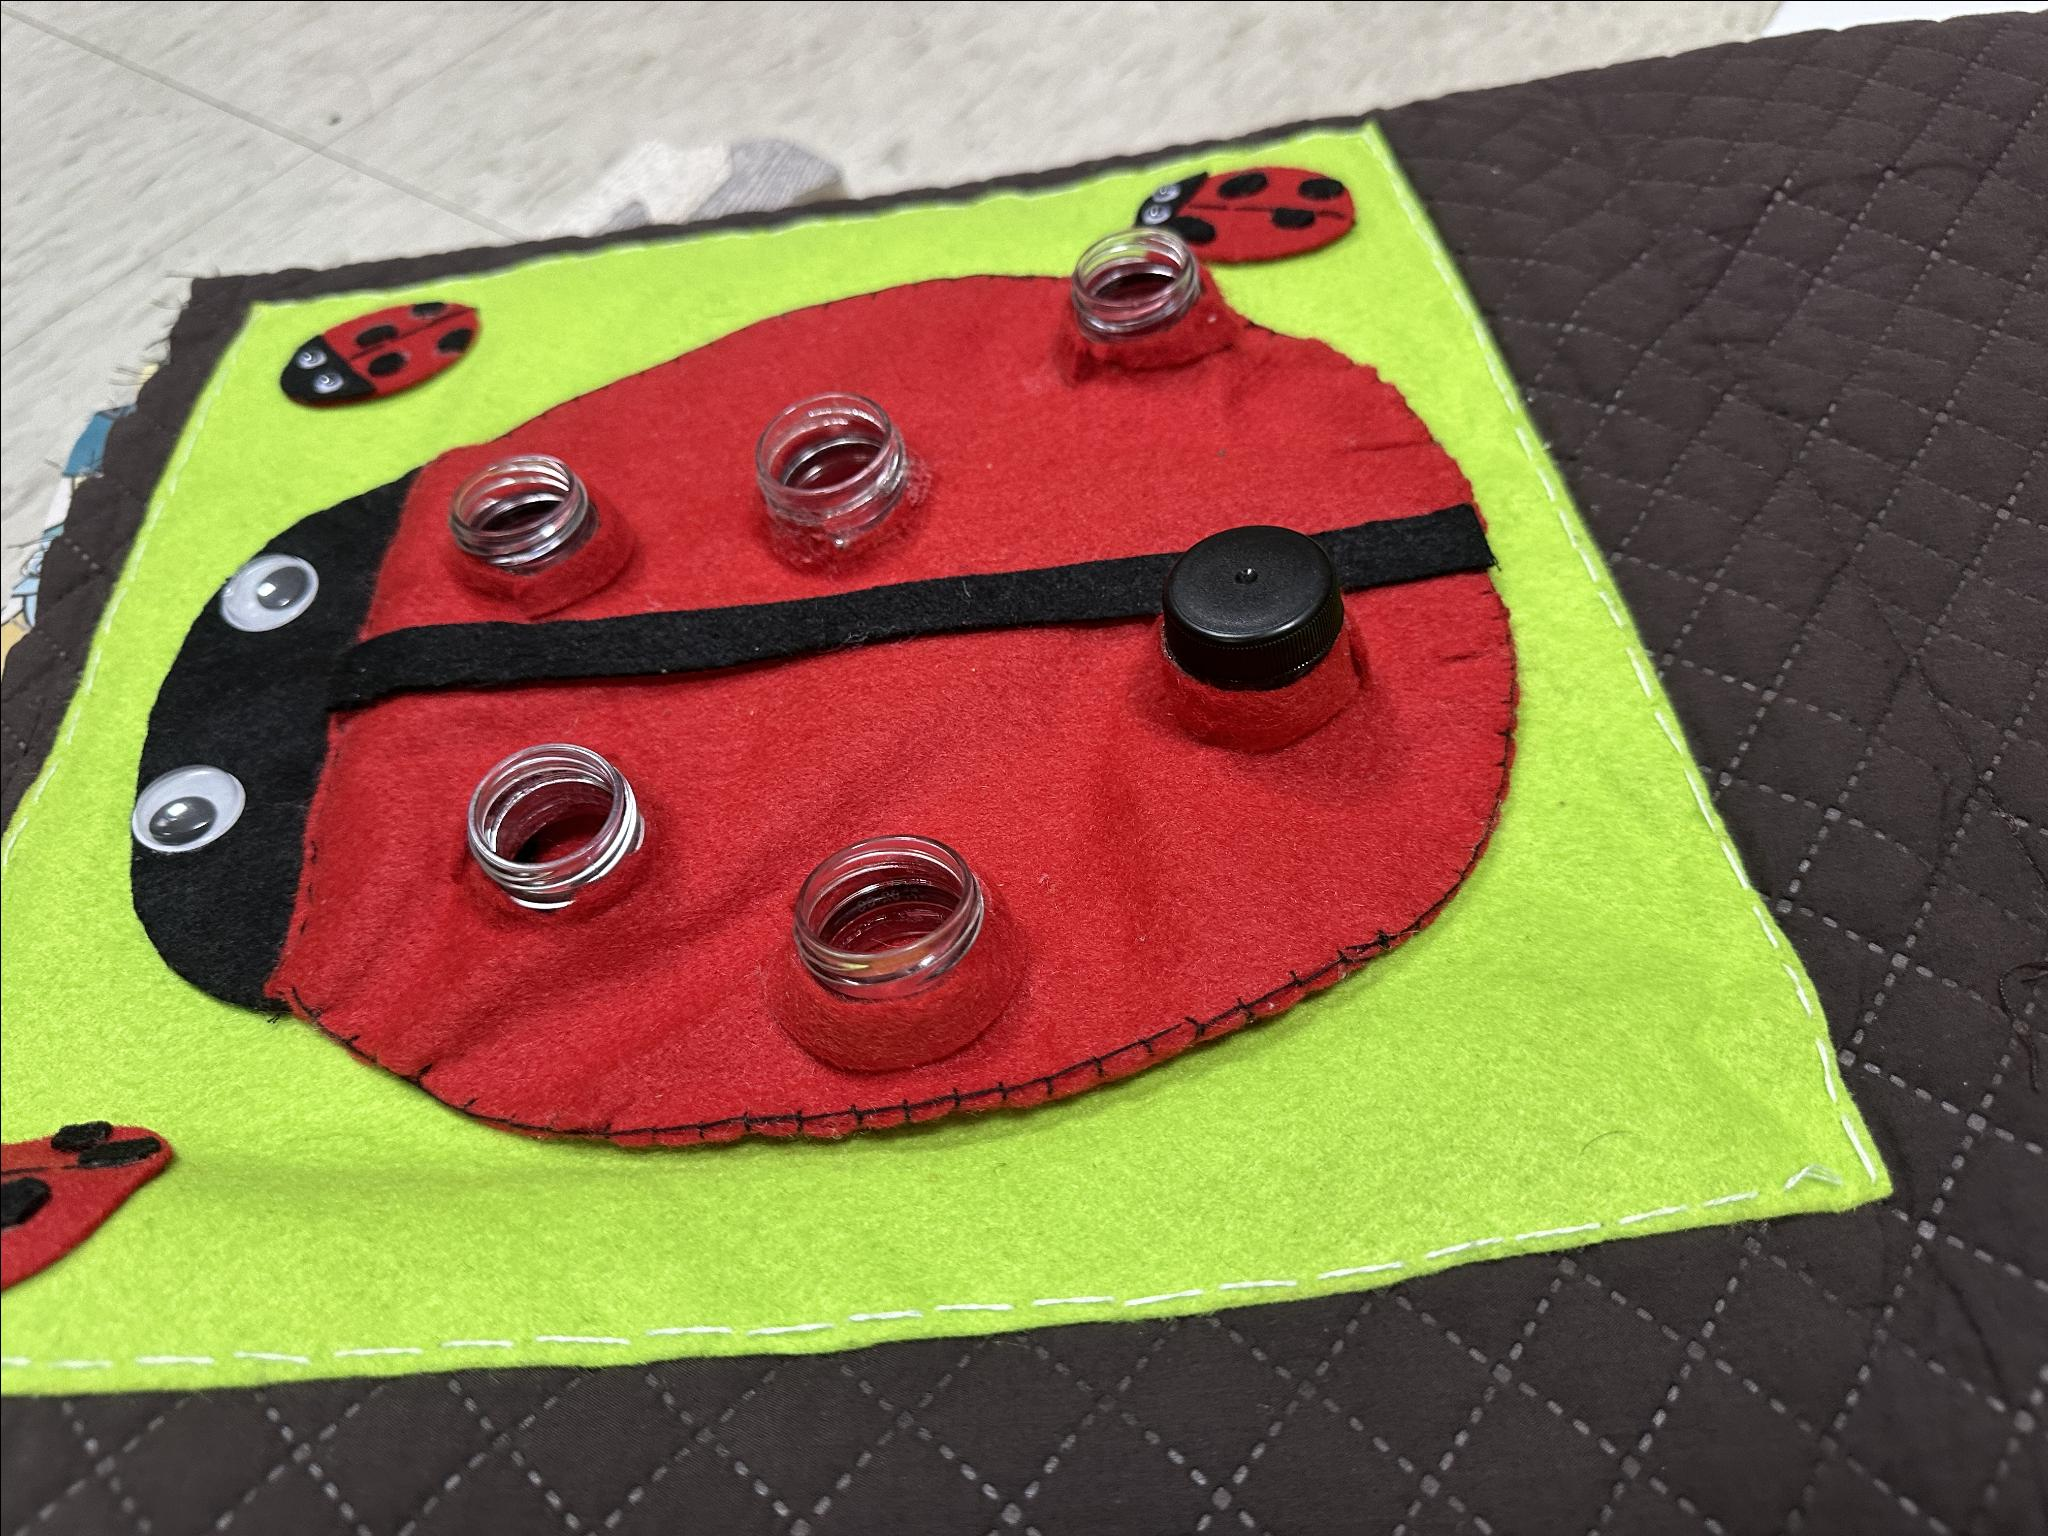cap_ok: (1148, 499, 1366, 752)
